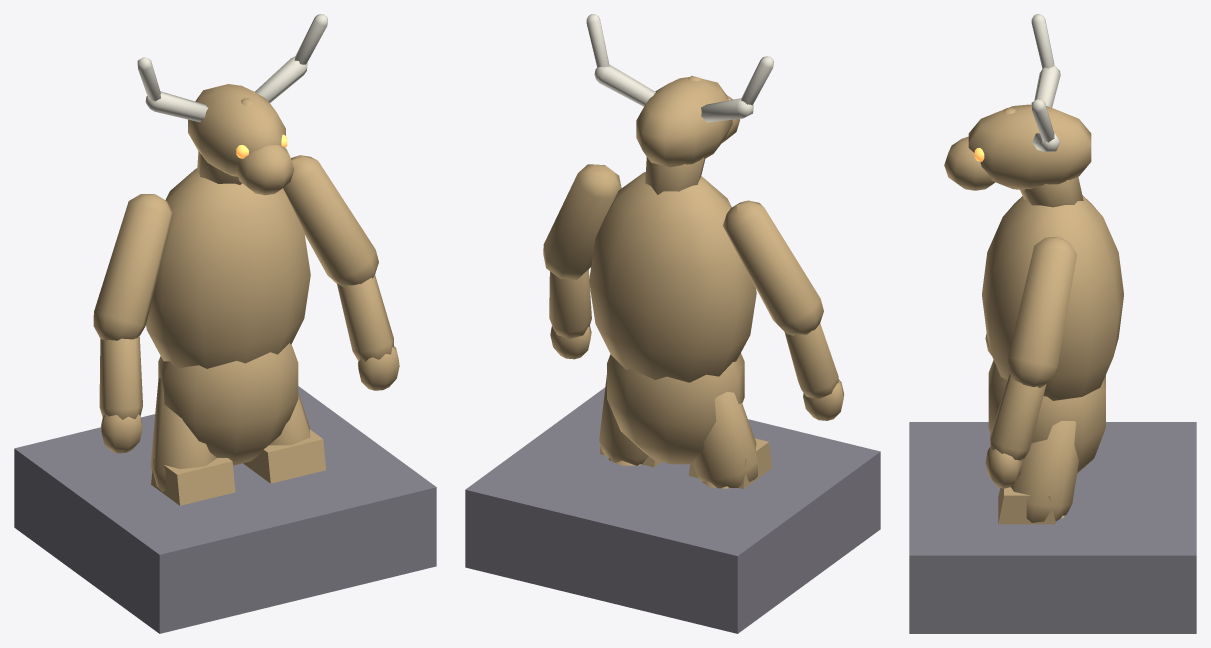
Rendered from mythic-underworld-and-olympus-minotaur-statue-2bdf8040__21397.glb.
3 renders of one model, left to right at view 1: azimuth 30°, elevation 25°; view 2: azimuth 150°, elevation 25°; view 3: azimuth 270°, elevation 25°, orthographic.
Parts seen in each view (by area): view 1: minotaur-statue; view 2: minotaur-statue; view 3: minotaur-statue.
Part boxes in pixels (bbox=[...]): minotaur-statue: bbox=[14, 14, 436, 633]; minotaur-statue: bbox=[465, 14, 880, 633]; minotaur-statue: bbox=[909, 14, 1196, 633].
Bounding box in the file's own units: 2.36 × 3.91 × 2.
